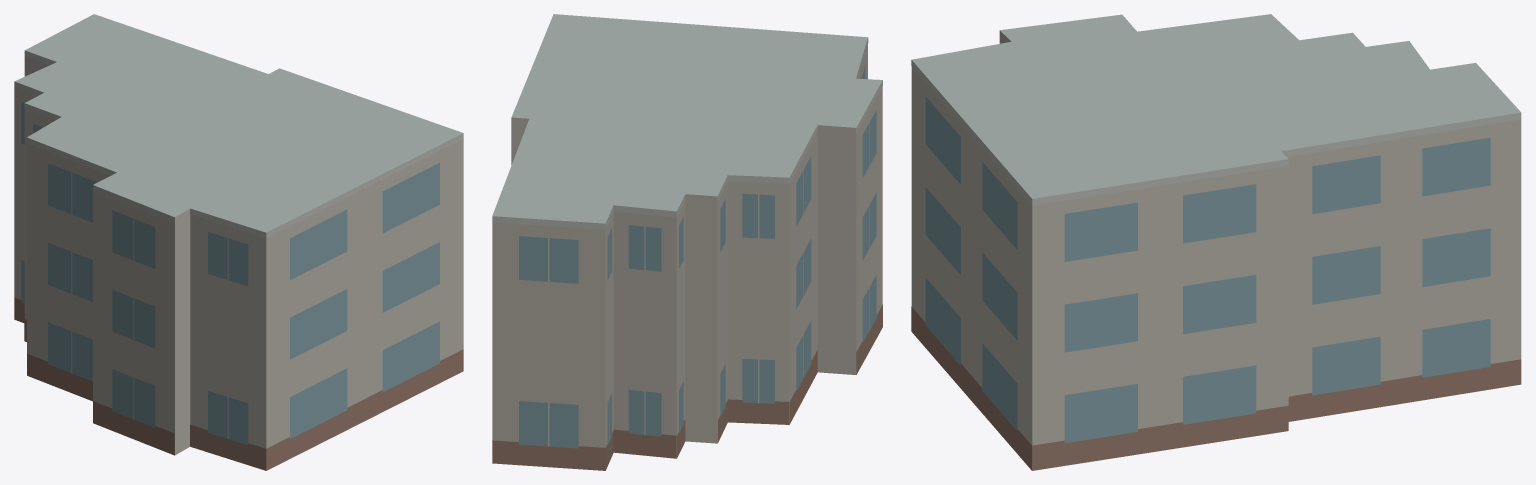
Rendered from survey-upis-32588497.glb.
3 renders of one model, left to right at view 1: azimuth 30°, elevation 25°; view 2: azimuth 150°, elevation 25°; view 3: azimuth 270°, elevation 25°, orthographic. The views are drawn at different scales.
Parts seen in each view (by area): view 1: survey-upis-32588497.tmp; view 2: survey-upis-32588497.tmp; view 3: survey-upis-32588497.tmp.
Part boxes in pixels (x1,y1,x2,y2): survey-upis-32588497.tmp: (14,14,463,470); survey-upis-32588497.tmp: (492,14,882,470); survey-upis-32588497.tmp: (911,14,1521,470).
Bounding box in the file's own units: 14.3 × 9.8 × 19.93.
